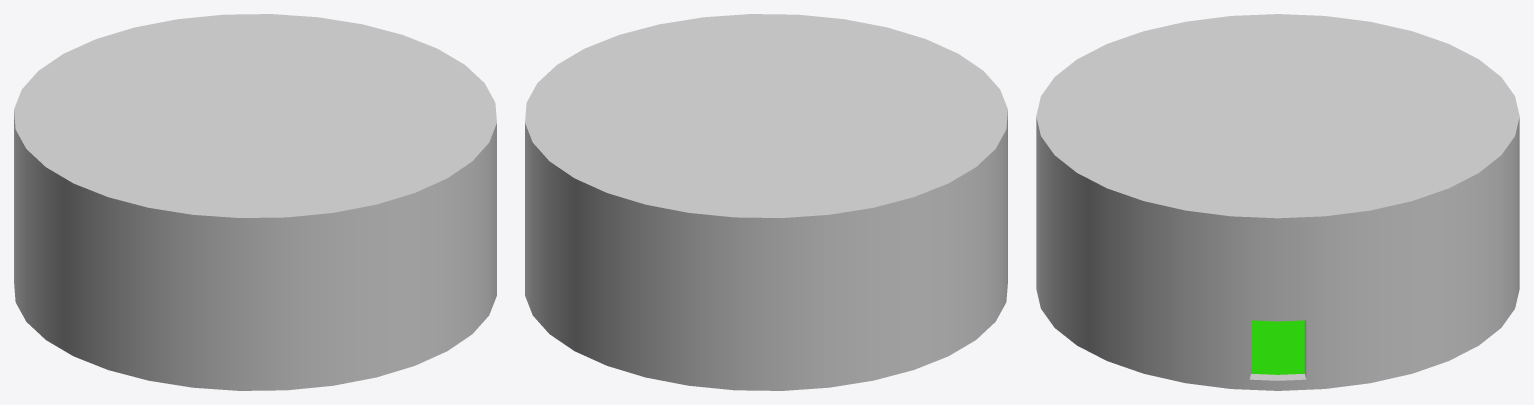
The model's file is Bunker 1.fbx.
3 views of the same model, side by side, from view 1: azimuth 30°, elevation 25°; view 2: azimuth 150°, elevation 25°; view 3: azimuth 270°, elevation 25° (orthographic).
Parts seen in each view (by area): view 1: Building; view 2: Building; view 3: Building.
Part boxes in pixels (<box>): Building: <box>14,14,496,390</box>; Building: <box>525,14,1007,390</box>; Building: <box>1036,14,1519,390</box>.
Bounding box in the file's own units: 3400 × 1340 × 3400.
